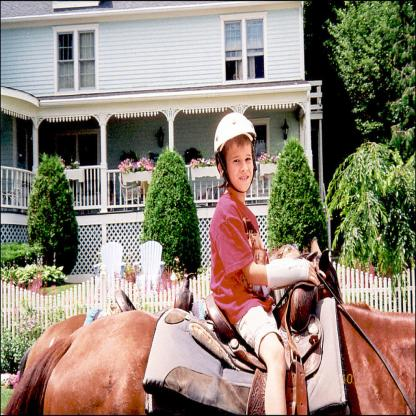Helmet: (212, 111, 257, 198)
